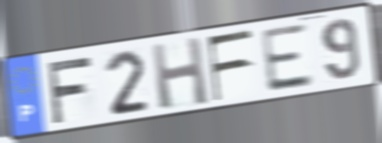2: (103, 48, 151, 118)
9: (319, 16, 362, 82)
E: (258, 22, 317, 95)
F: (204, 27, 256, 105), (44, 53, 94, 126)
H: (149, 34, 212, 112)
